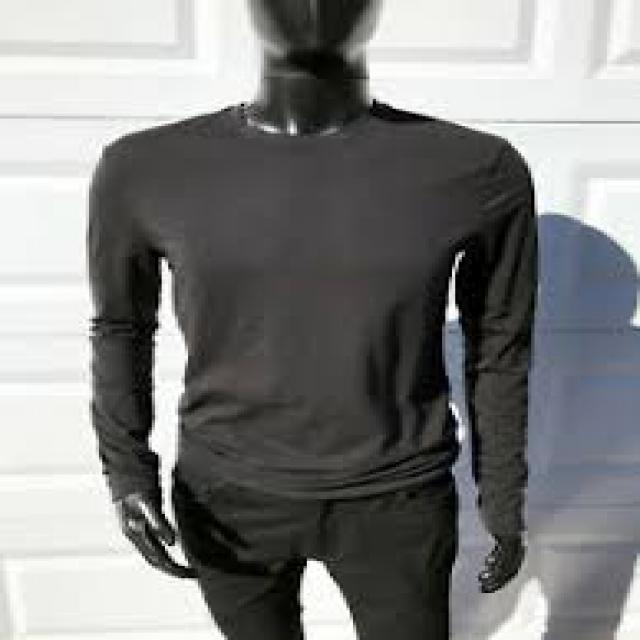plain: (79, 100, 548, 492)
